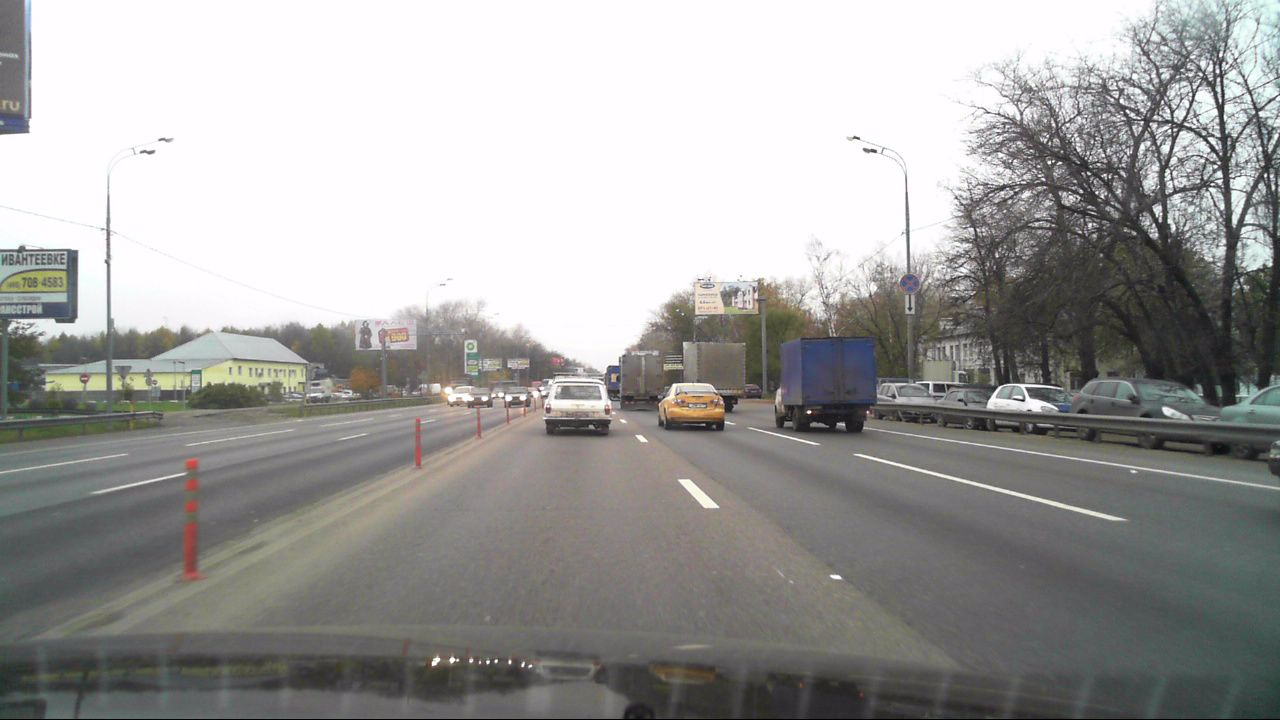No Parking: (899, 274, 919, 294)
